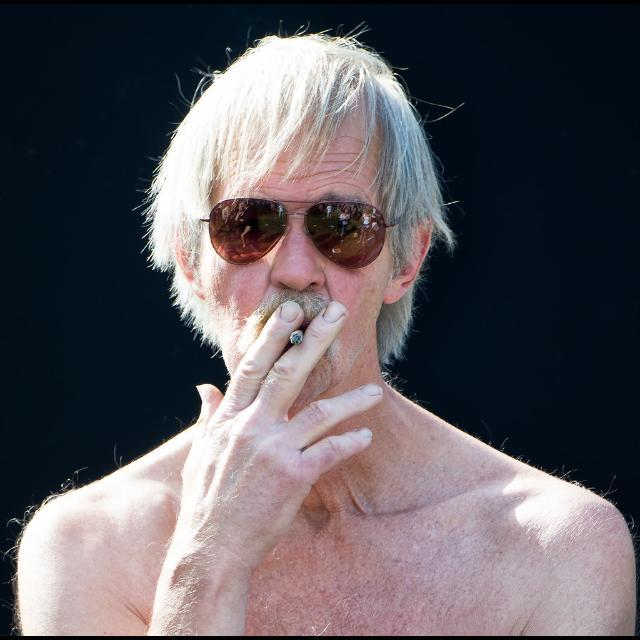rokok: (283, 328, 305, 348)
